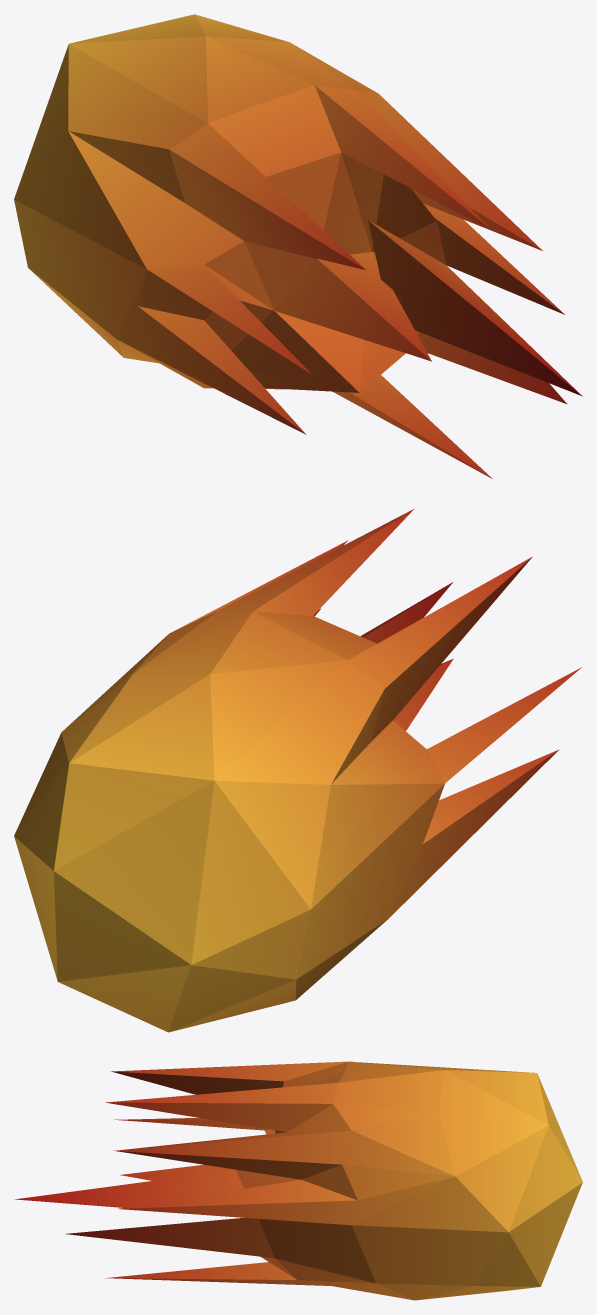
File: Fireball.fbx
3 renders of one model, top to bottom at view 1: azimuth 30°, elevation 25°; view 2: azimuth 150°, elevation 25°; view 3: azimuth 270°, elevation 25°, orthographic. The views are drawn at different scales.
Visible parts, largest first — view 1: Fireball; view 2: Fireball; view 3: Fireball.
Boxes of the visible parts, bbox=[...] form: Fireball: bbox=[14, 14, 582, 478]; Fireball: bbox=[14, 509, 581, 1032]; Fireball: bbox=[15, 1061, 582, 1300].
Size of the model in its own units: 79.6 by 82.85 by 192.
